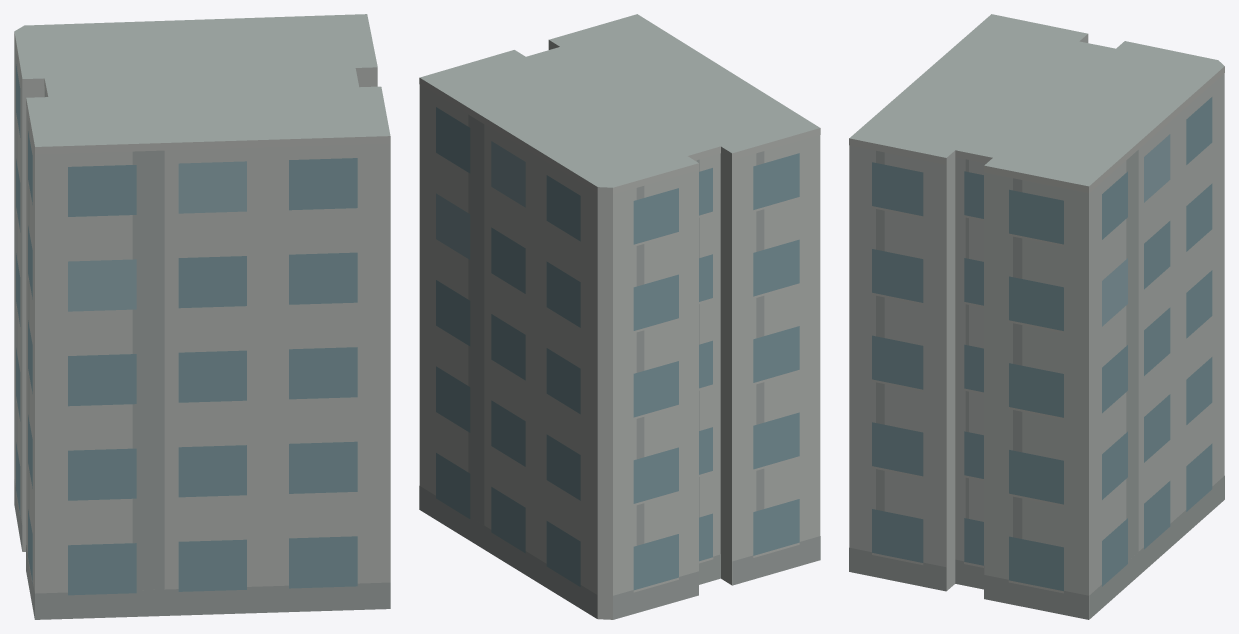
Rendered from survey-upis-32936118.glb.
3 renders of one model, left to right at view 1: azimuth 30°, elevation 25°; view 2: azimuth 150°, elevation 25°; view 3: azimuth 270°, elevation 25°, orthographic. The views are drawn at different scales.
Visible parts, largest first — view 1: survey-upis-32936118.tmp; view 2: survey-upis-32936118.tmp; view 3: survey-upis-32936118.tmp.
Part boxes in pixels (<box>): survey-upis-32936118.tmp: <box>14,14,390,619</box>; survey-upis-32936118.tmp: <box>419,14,820,619</box>; survey-upis-32936118.tmp: <box>849,14,1224,619</box>.
Bounding box in the file's own units: 13.02 × 15.25 × 11.98.
